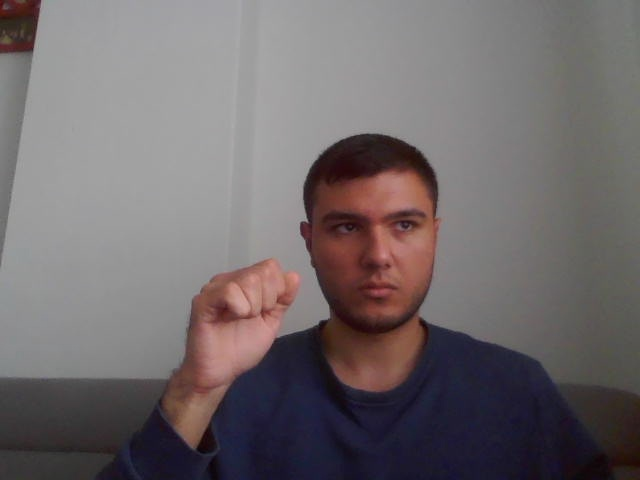yes: (180, 255, 304, 389)
